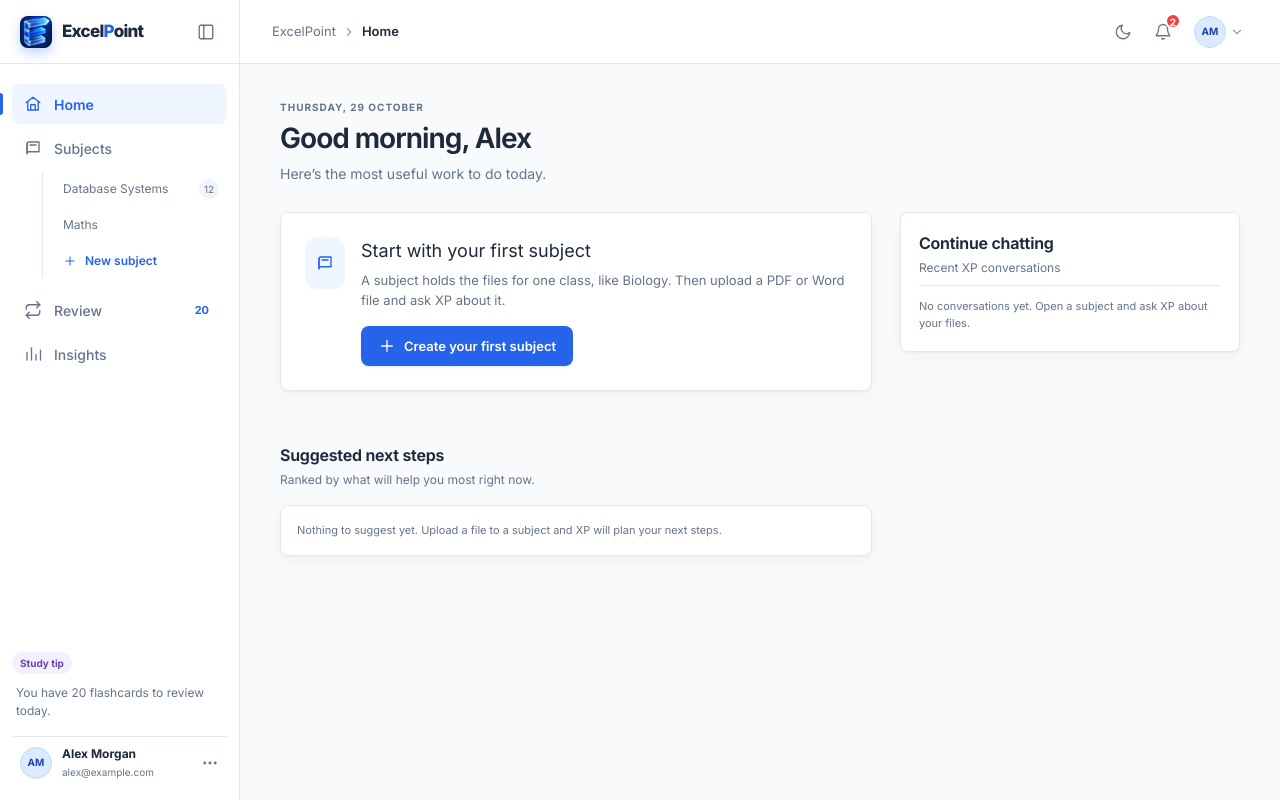
Test: Shell › closes a menu with Escape
Step 1. Click the button with aria-label "Open account menu" → coordinates (1219, 32), box [1190,14,1248,50]
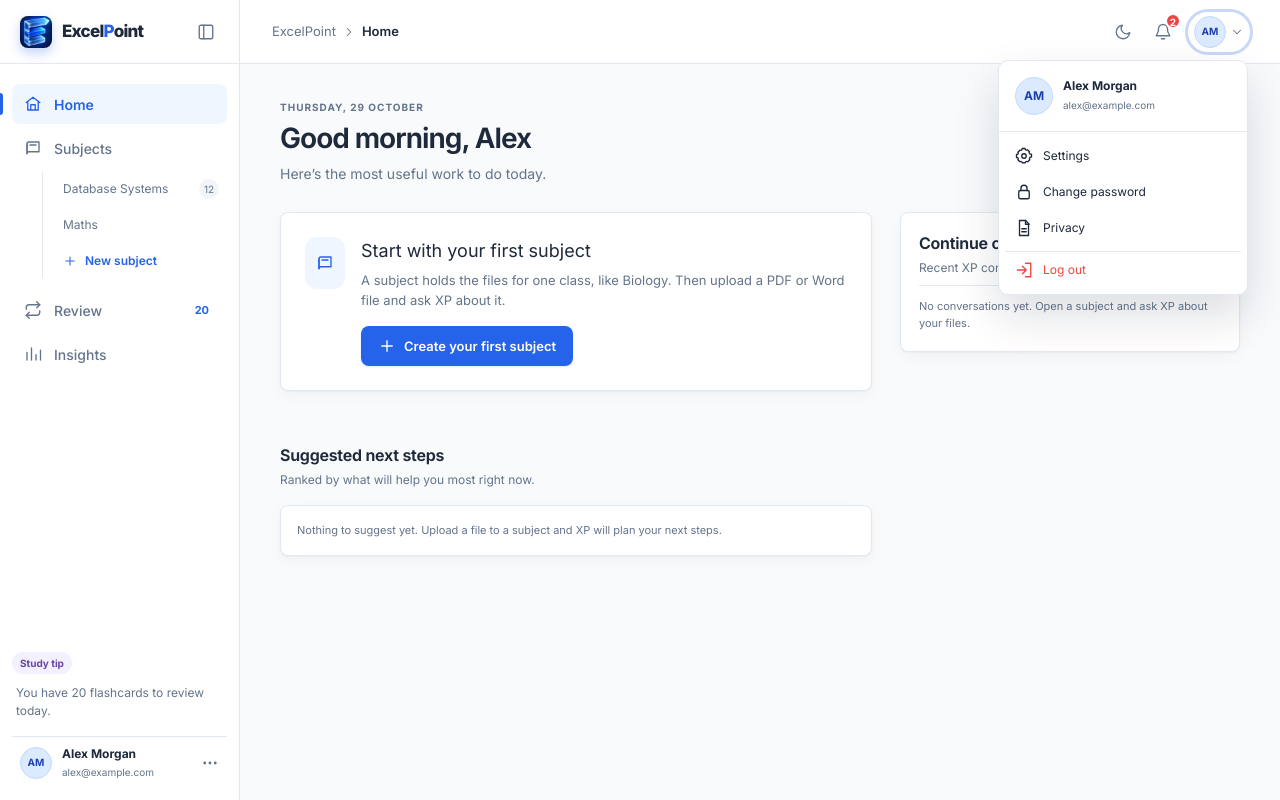
Now the link "Settings" is shown, box [1015,146,1089,164]
Step 2. Press Escape
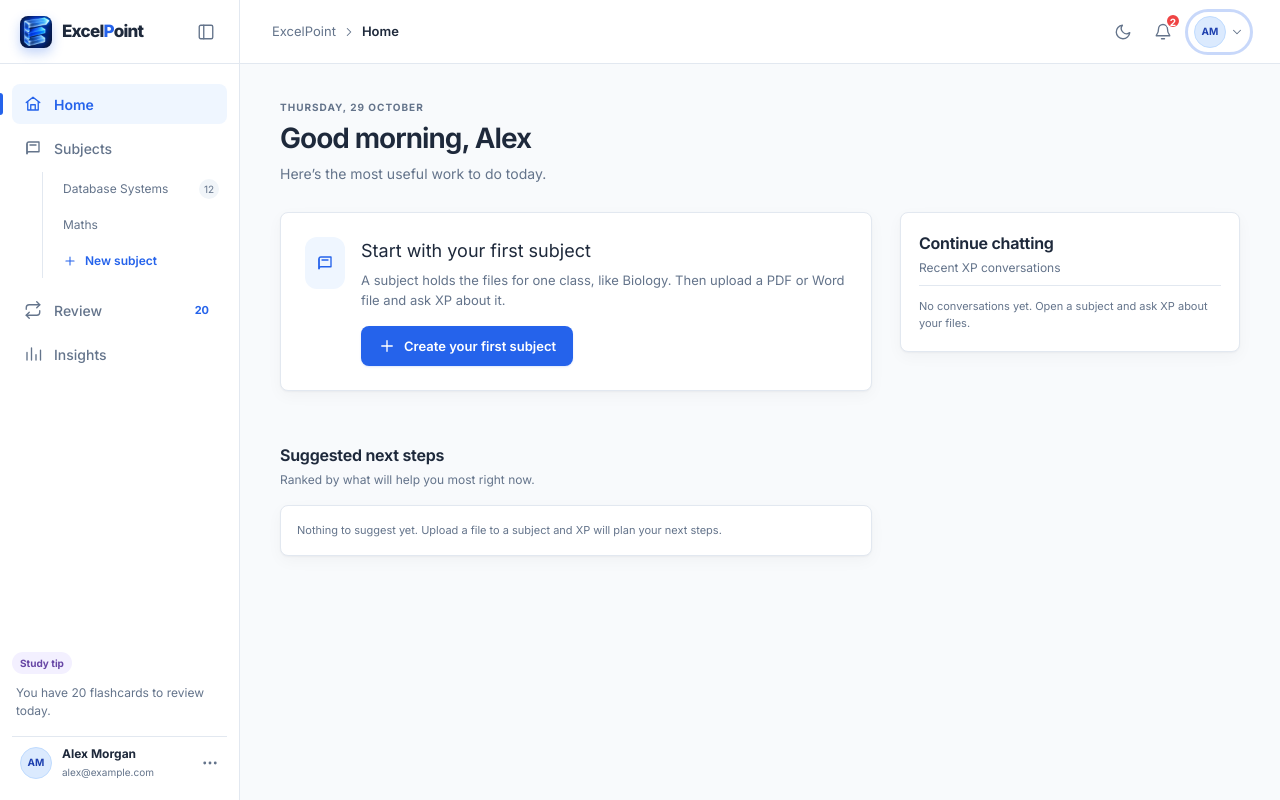
Now the link "Settings" is gone
